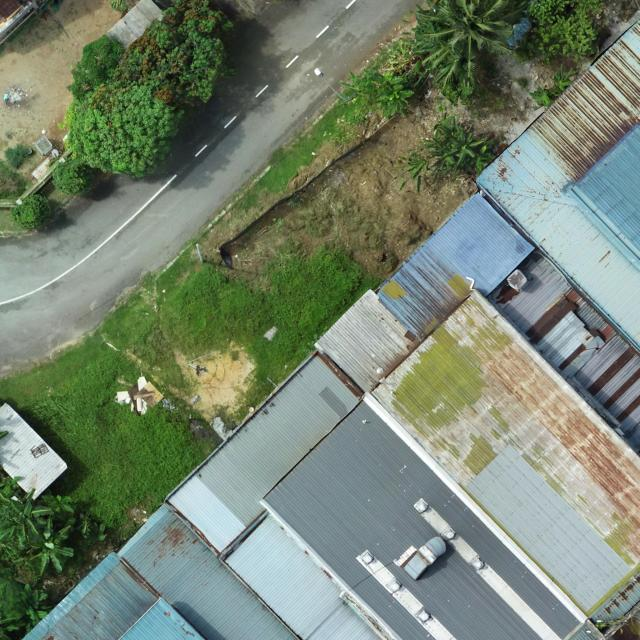Tree: (56, 76, 185, 179), (117, 0, 235, 106), (415, 0, 516, 95), (527, 0, 607, 61), (64, 34, 126, 103), (0, 488, 50, 550), (26, 514, 73, 578), (0, 581, 50, 632), (372, 70, 415, 118), (51, 158, 94, 198), (336, 72, 379, 109), (10, 193, 50, 231), (395, 152, 432, 192), (422, 135, 463, 171), (443, 123, 485, 158), (543, 64, 578, 92), (529, 85, 559, 107)
